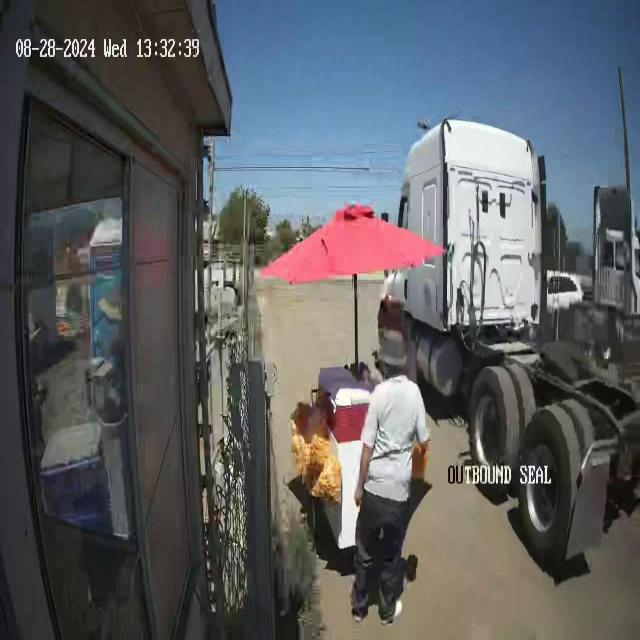TRUCK_OUT: (382, 65, 638, 581)
